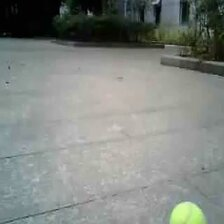tennis: (168, 201, 206, 224)
